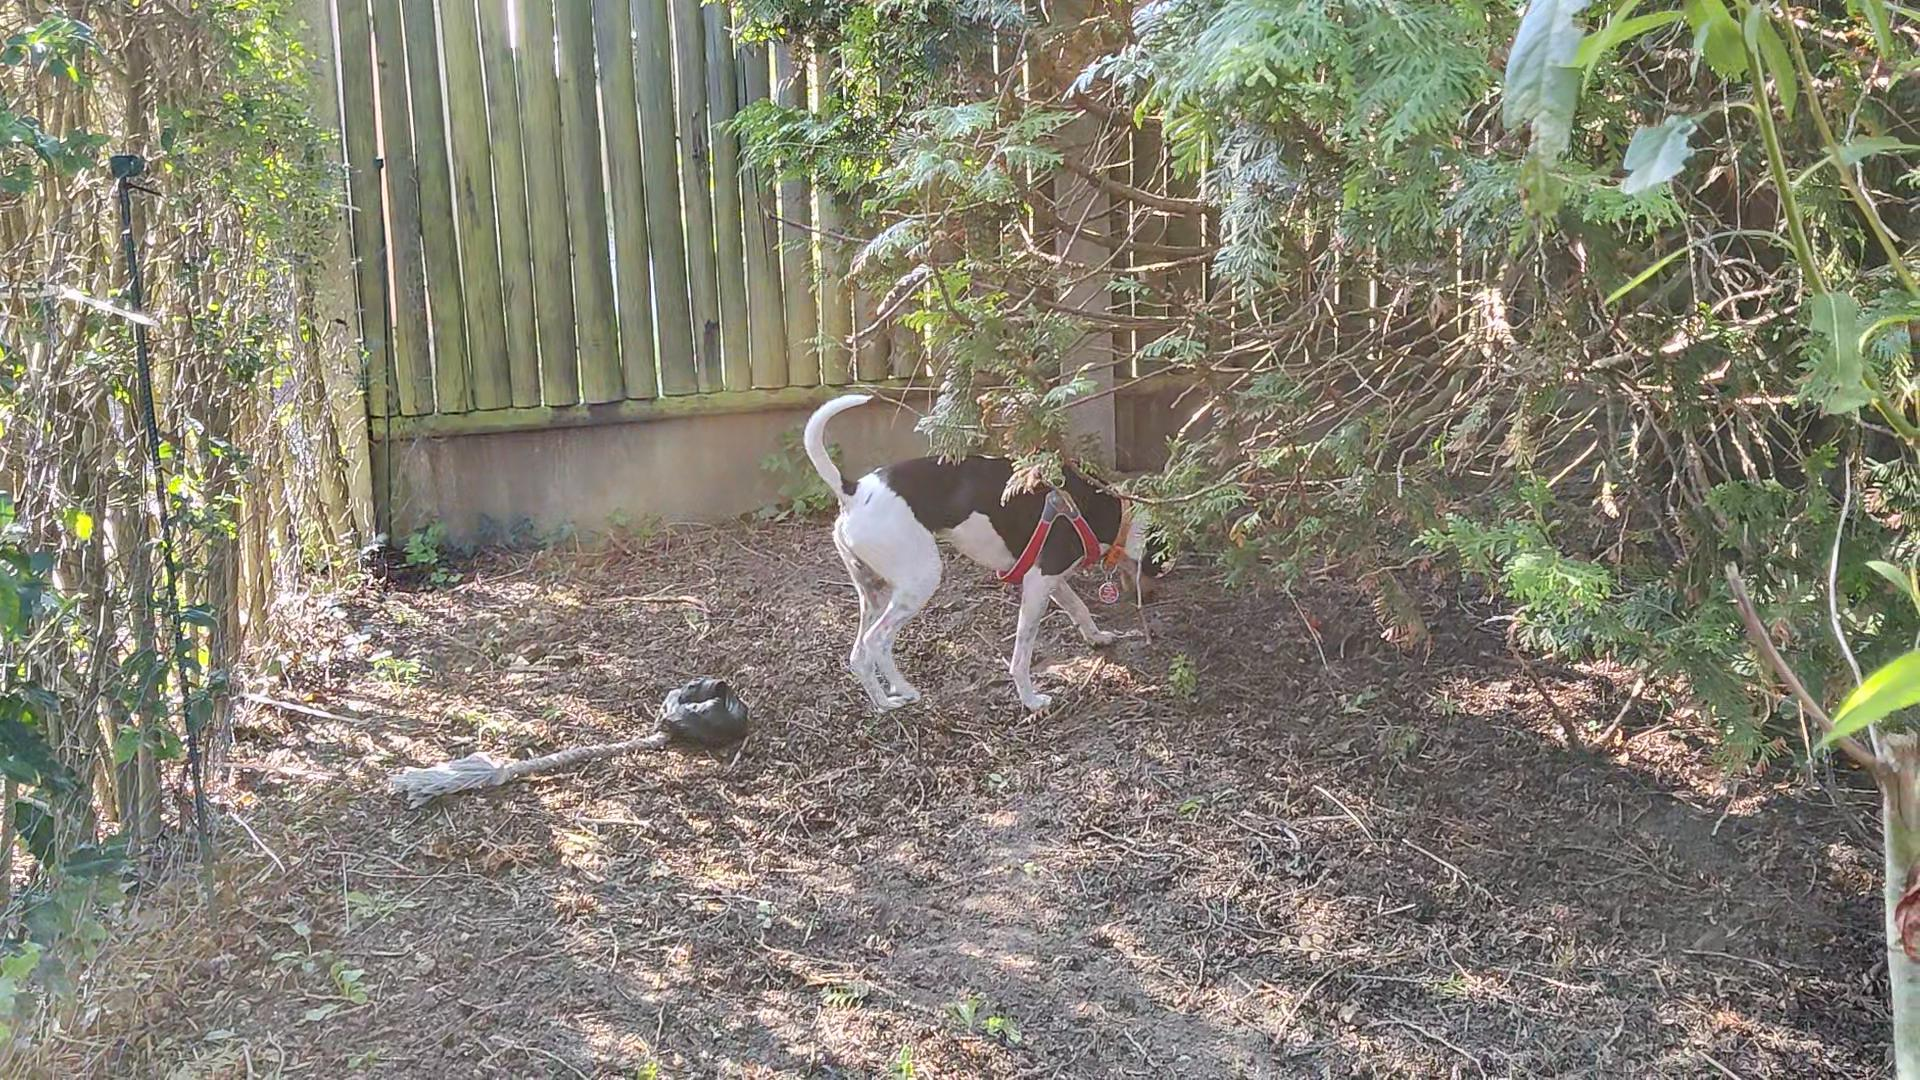Dog: (793, 378, 1185, 715)
